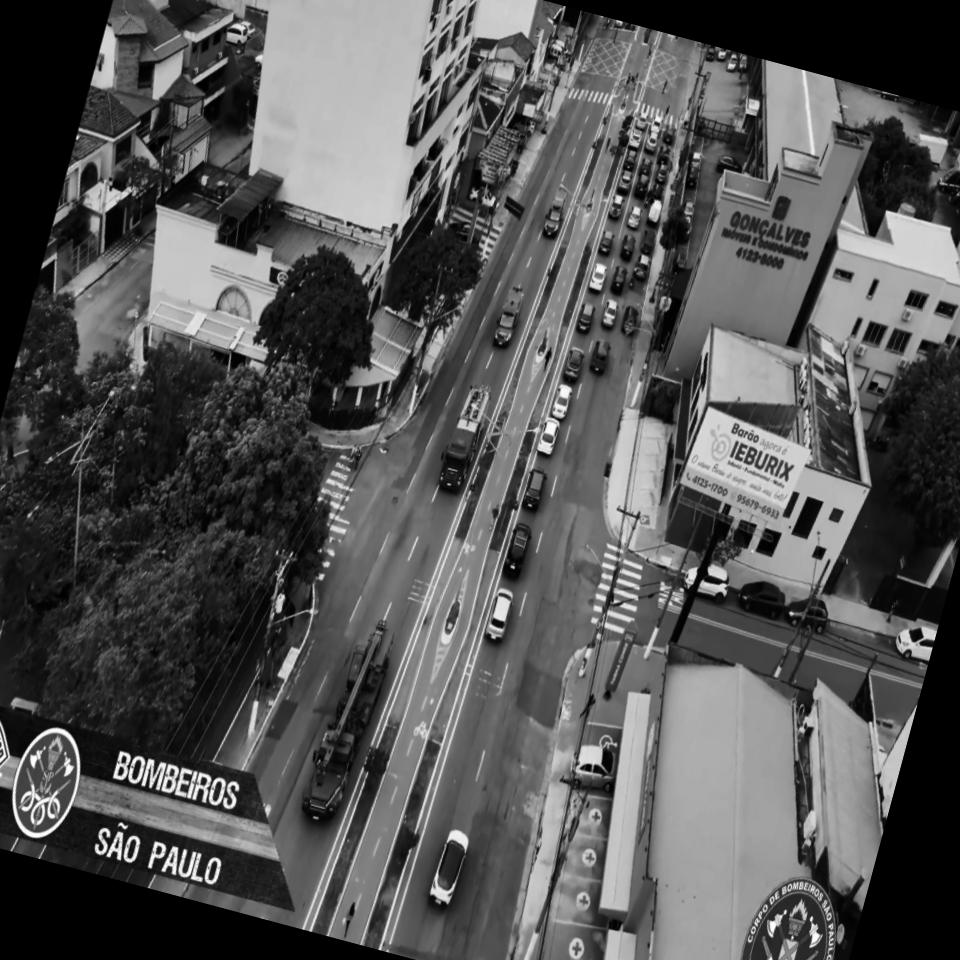viatura: (296, 610, 400, 830), (432, 381, 494, 497)
